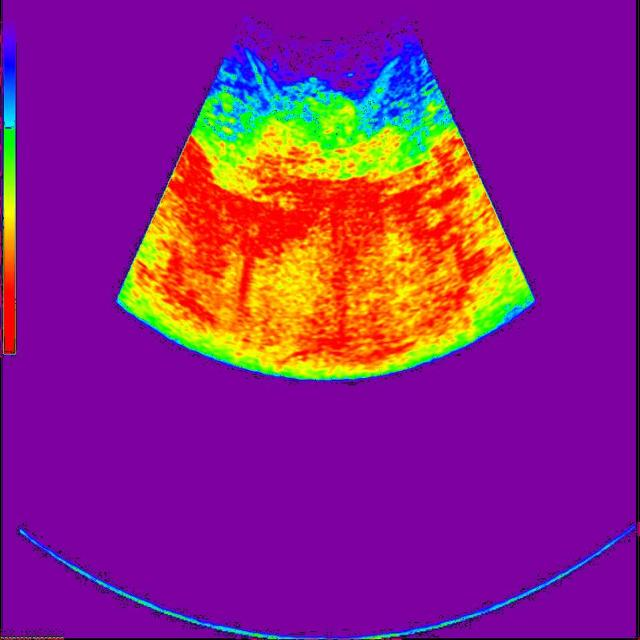chicken muscle pre: (281, 95, 362, 150)
